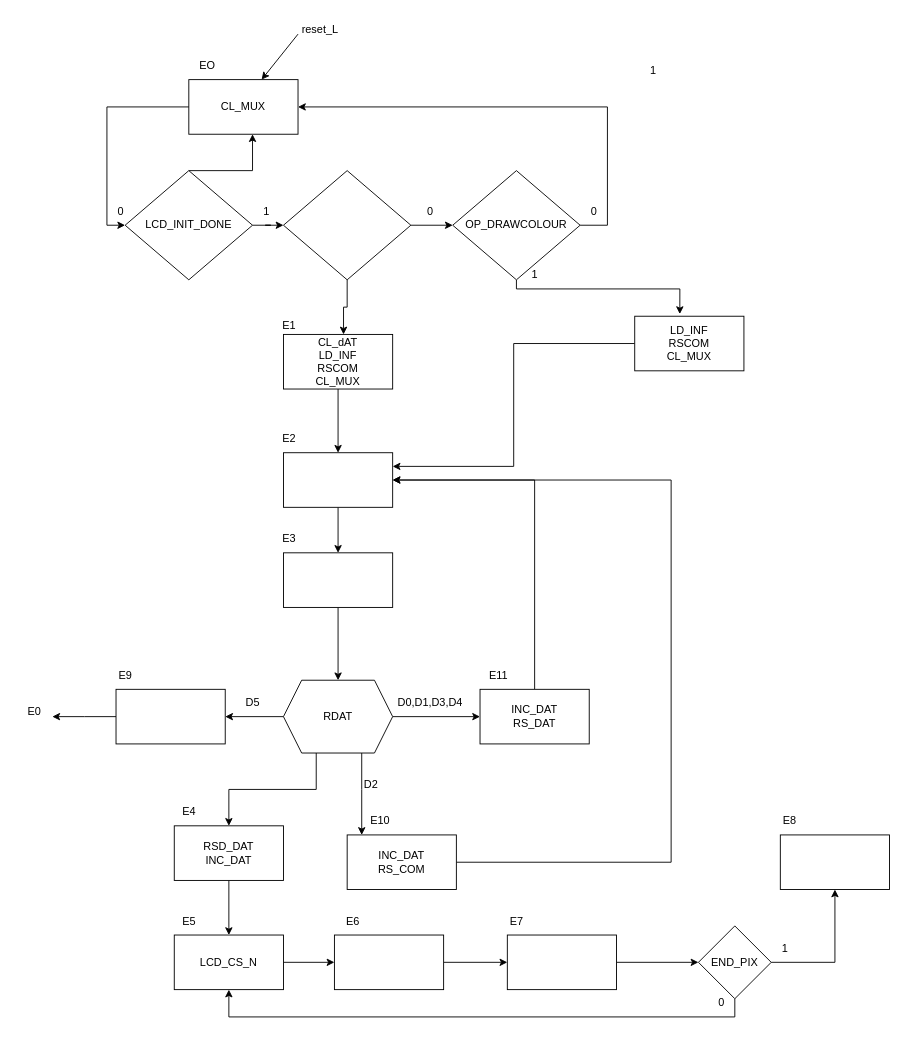
Some shapes in this 905 by 1040 pixel diagram are drawn without their labels. Here are the shapes that lost their labels. From the top down, the centre of each, then its label:
the point at 347,225: OP_SETCURSOR
the point at 338,479: LCD_CS_N LCD_WR_N
the point at 170,716: DONE_CURSOUR
the point at 834,862: DONE_COLOUR
the point at 389,962: DEC_PIX
